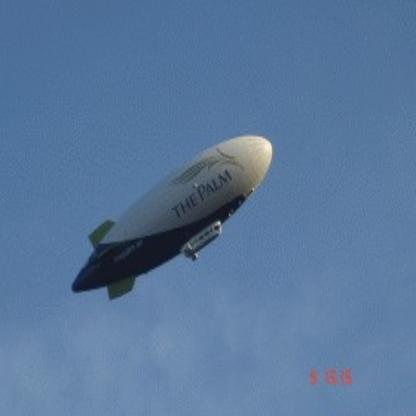Airship: (71, 135, 274, 305)
